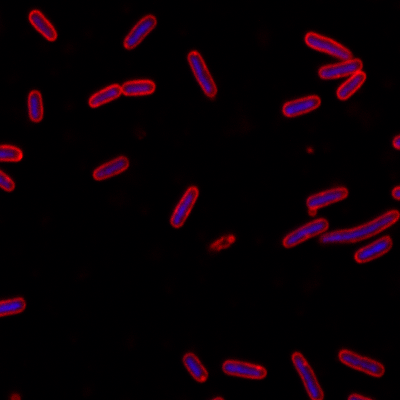Rifampicin: (317, 207, 400, 245), (87, 79, 156, 110), (337, 345, 387, 379), (291, 351, 325, 400), (279, 216, 330, 248), (186, 50, 217, 100), (304, 30, 354, 61), (121, 13, 157, 52), (170, 185, 200, 230), (353, 234, 395, 266), (303, 183, 350, 211), (334, 69, 372, 101), (316, 57, 363, 82), (90, 154, 130, 183), (221, 357, 268, 381), (26, 10, 59, 43), (279, 94, 322, 118), (182, 351, 208, 384), (26, 88, 44, 124)
Vesicle: (305, 144, 314, 156)
